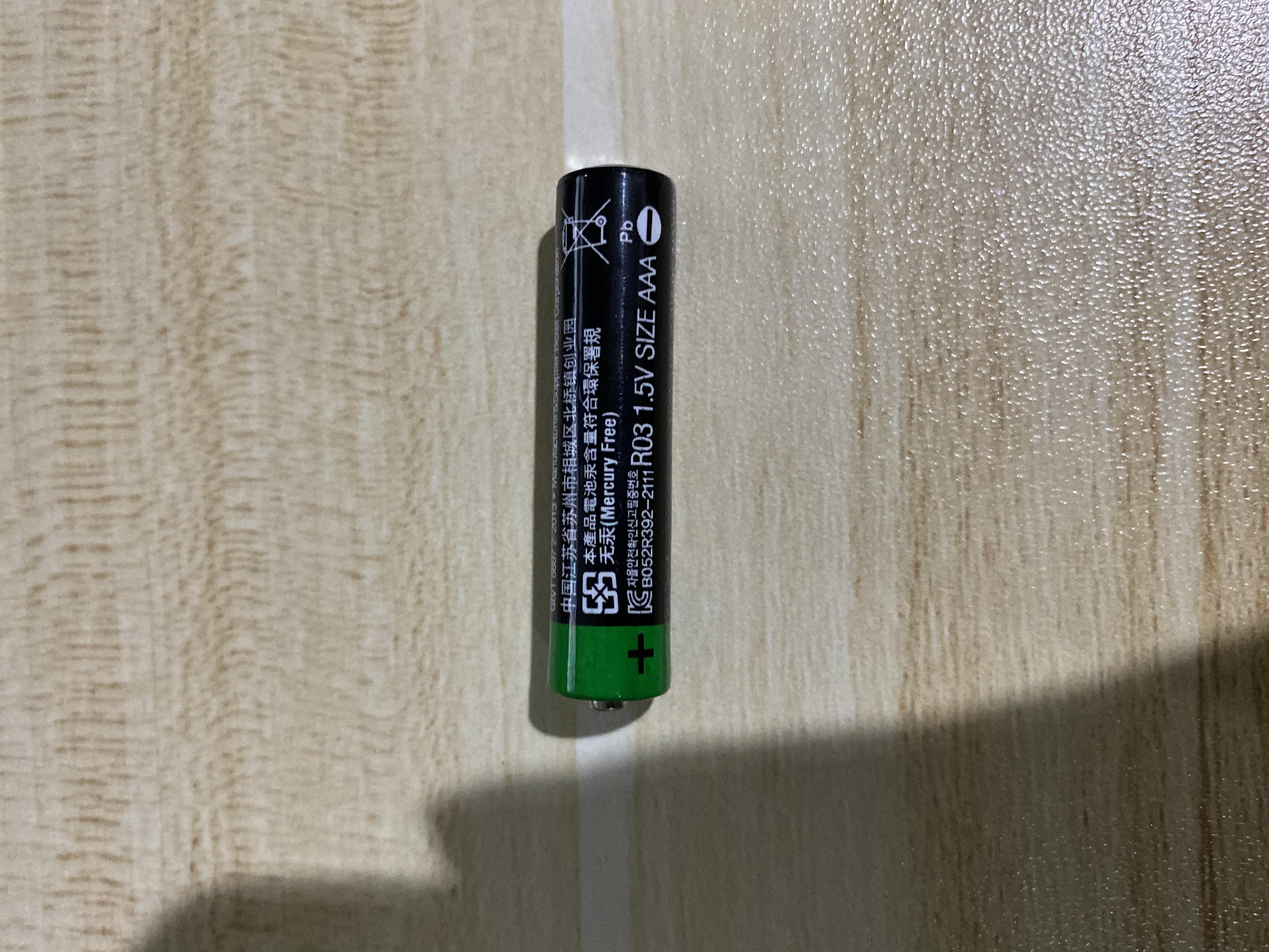AAA: (321, 409, 1050, 504)
